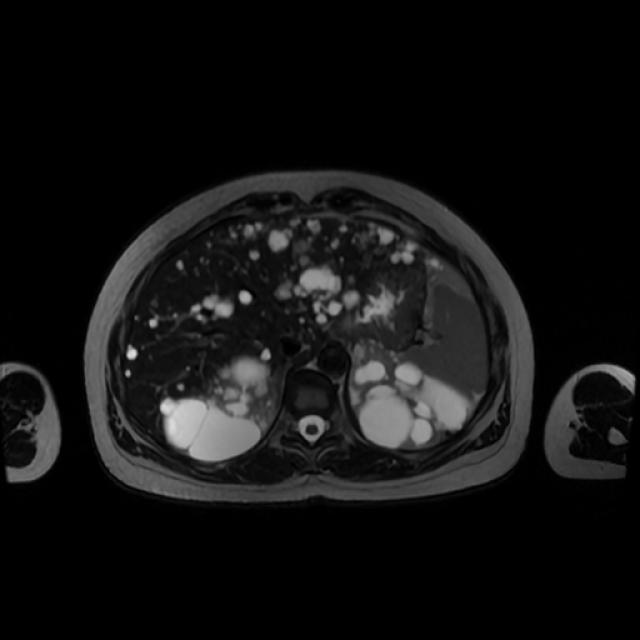sag: (167, 356, 278, 459)
sol: (353, 338, 469, 449)
